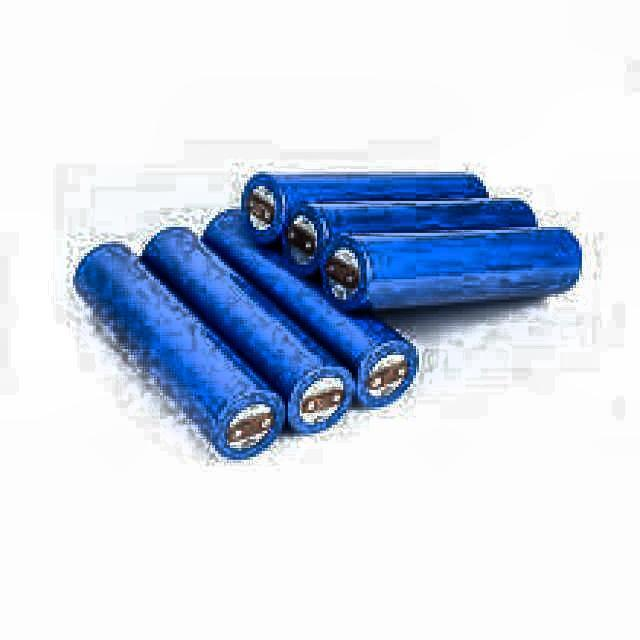battery: (143, 226, 357, 433), (321, 228, 582, 311), (280, 197, 538, 277)
